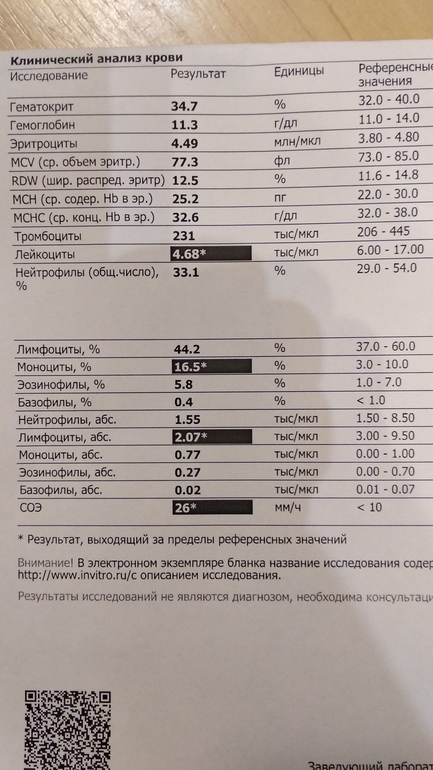column: (9, 61, 165, 525), (355, 61, 433, 525), (169, 61, 227, 525), (273, 61, 324, 525)
